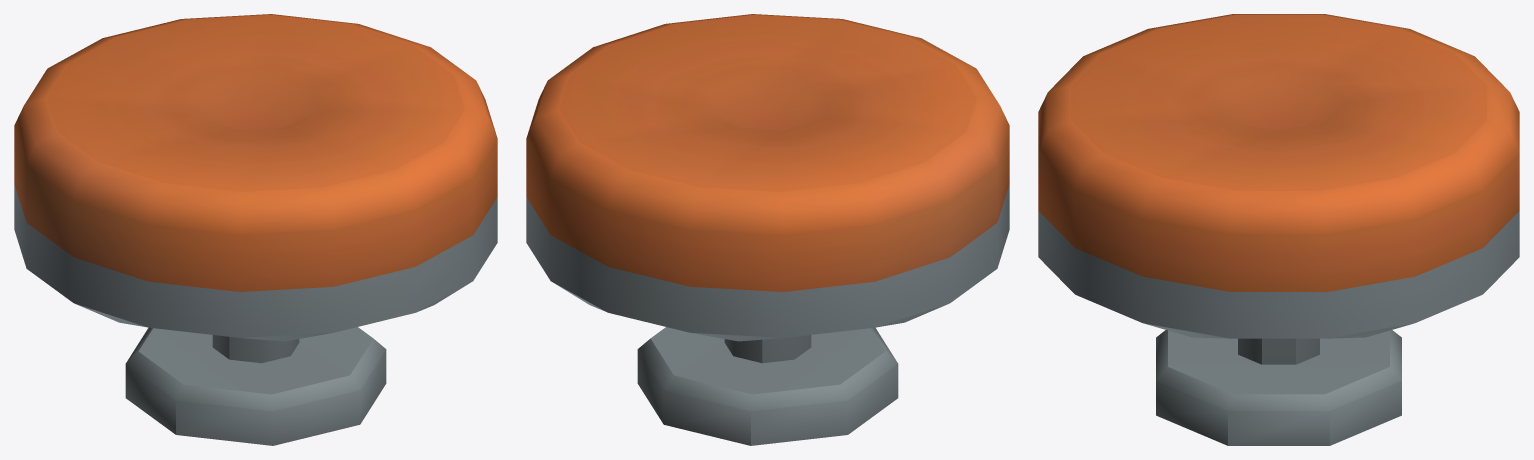
File: kkr.chair_stool.glb
3 renders of one model, left to right at view 1: azimuth 30°, elevation 25°; view 2: azimuth 150°, elevation 25°; view 3: azimuth 270°, elevation 25°, orthographic.
Parts seen in each view (by area): view 1: chair_stool; view 2: chair_stool; view 3: chair_stool.
Boxes of the visible parts, <box> form: chair_stool: <box>14,14,497,445</box>; chair_stool: <box>526,14,1009,445</box>; chair_stool: <box>1038,14,1519,445</box>.
Bounding box in the file's own units: 0.5588 × 0.3725 × 0.5588.
Materials: 1 (1 with a texture image).
